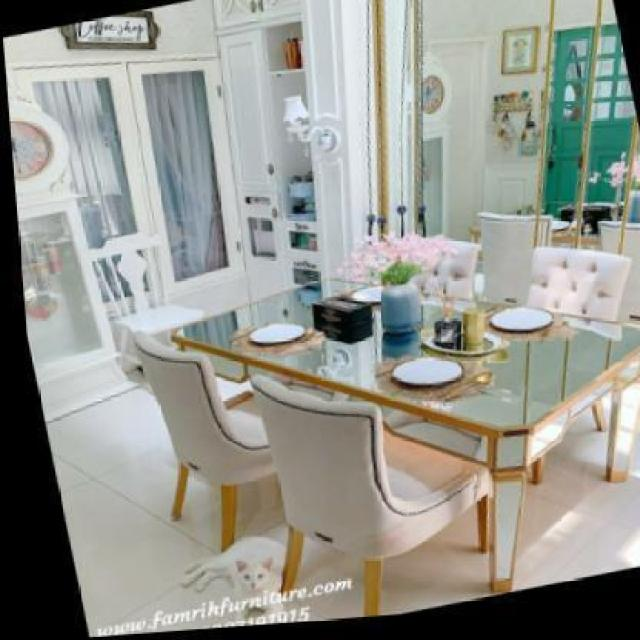tables: (170, 277, 638, 594)
